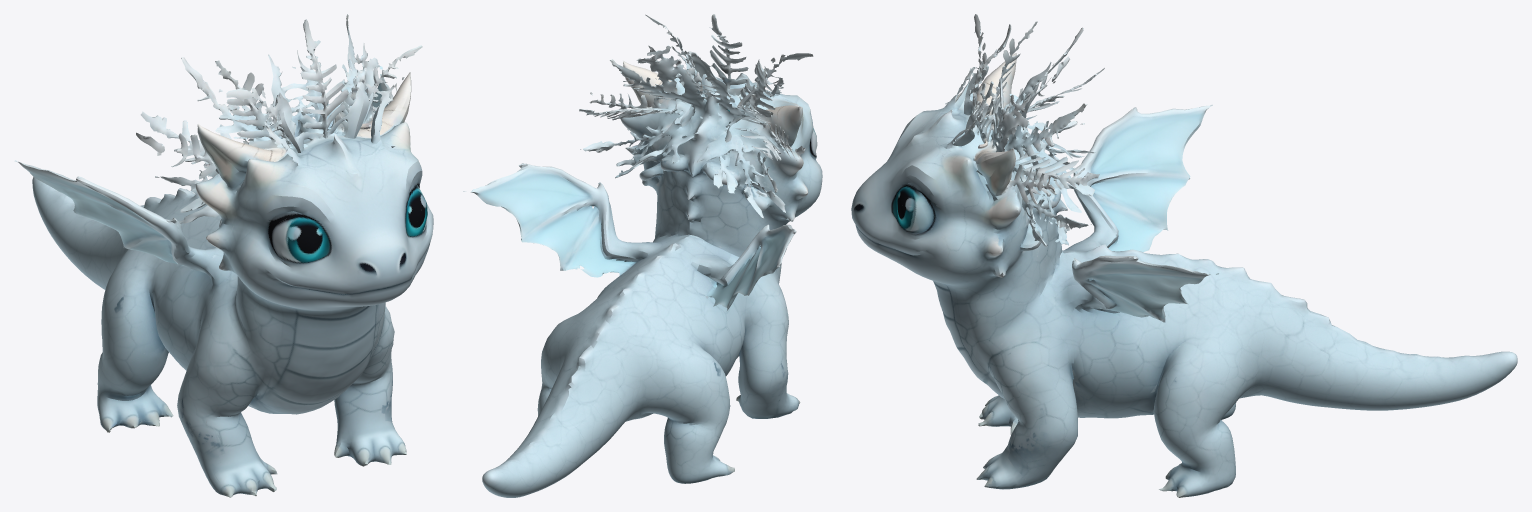
The model's file is snow_dragonet.glb.
The picture shows the model from 3 angles, left to right: view 1: azimuth 30°, elevation 25°; view 2: azimuth 150°, elevation 25°; view 3: azimuth 270°, elevation 25°; orthographic projection. The views are drawn at different scales.
Size of the model in its own units: 1.15 by 1.33 by 1.9.
1 material, 1 textured.
